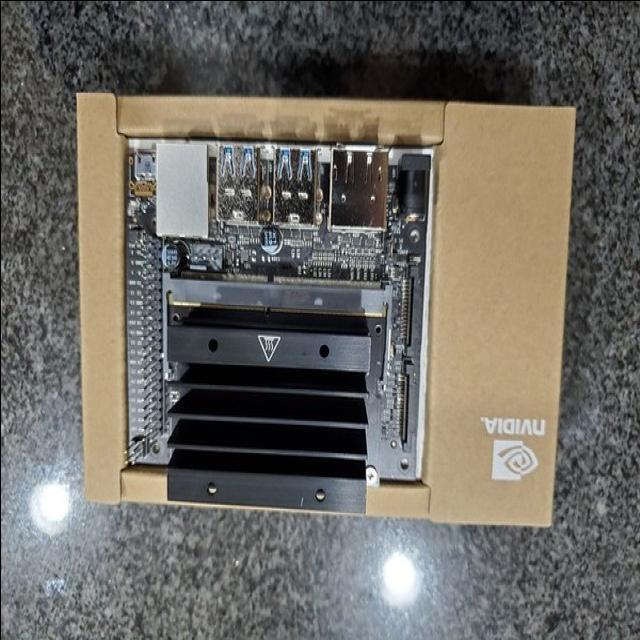Jetson Nano: (128, 140, 430, 514)
